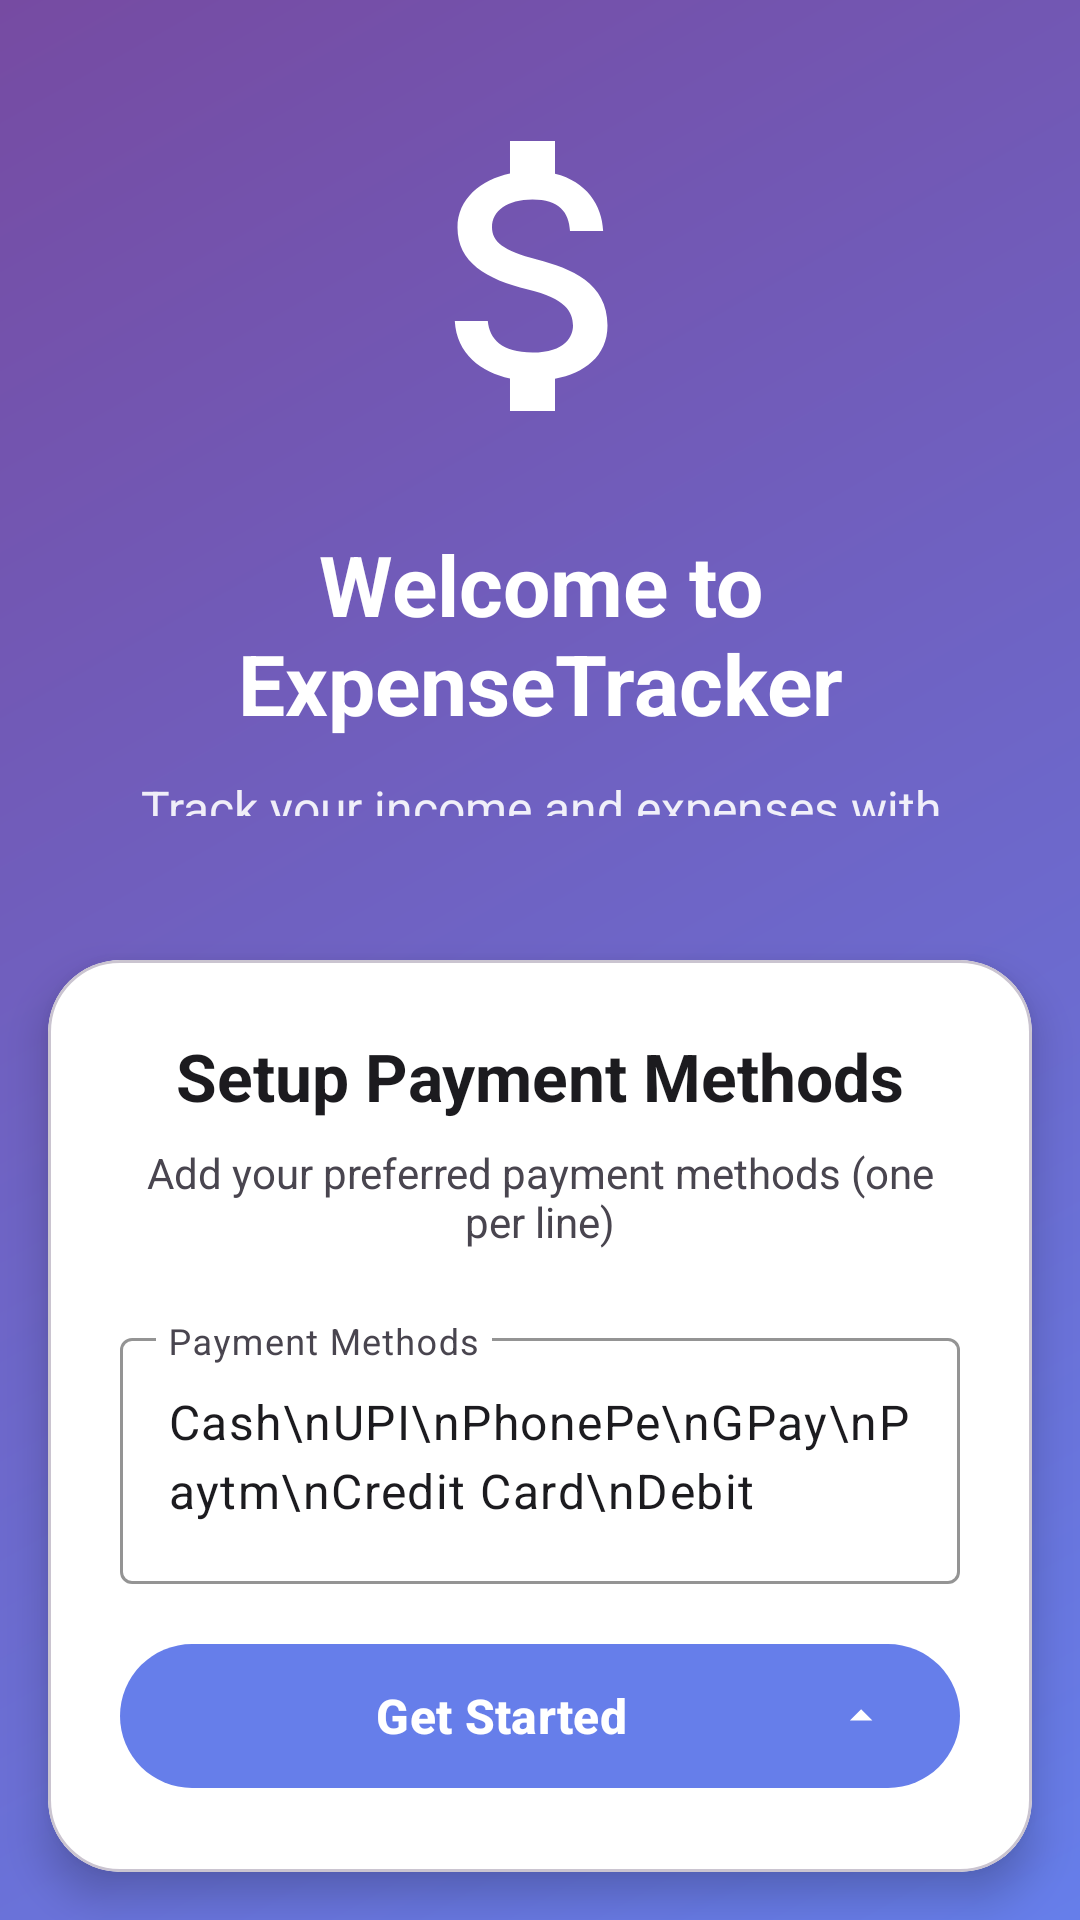

Point at icon controls on the screen. Image size 1080 × 1920, points as [x,y].
currency: [531,276]
